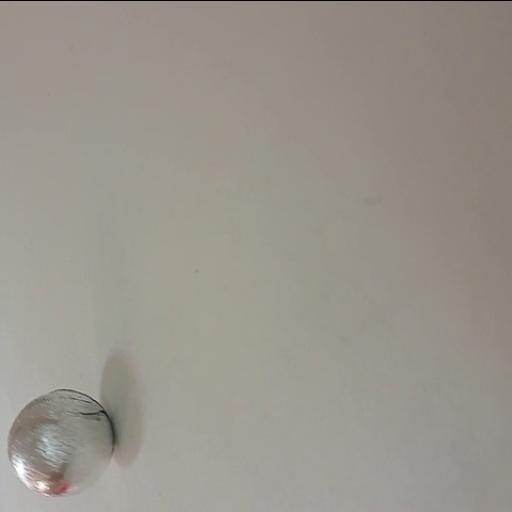alive: (6, 386, 114, 498)
